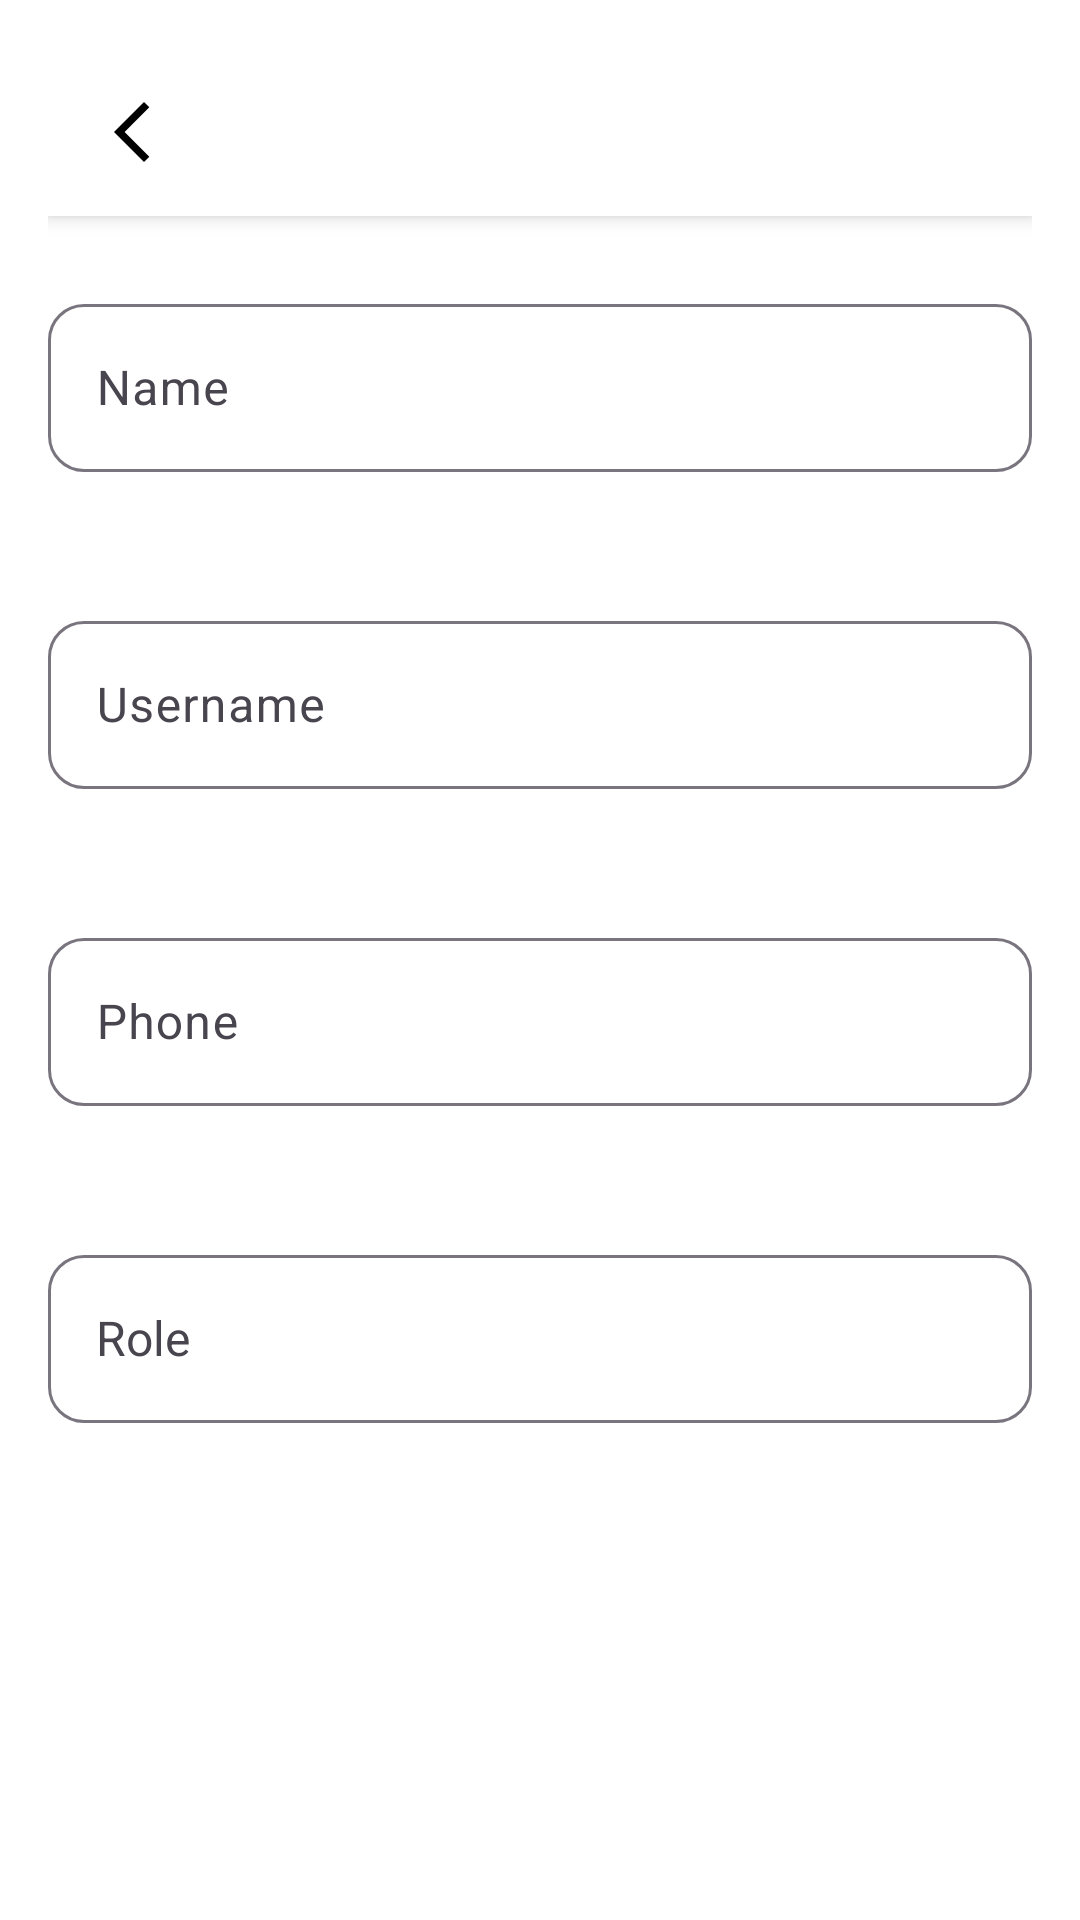

Icons on this 1080px x 1920px Android screen, each with the point to tap as (x=x, y=y):
Back: (x=131, y=132)
